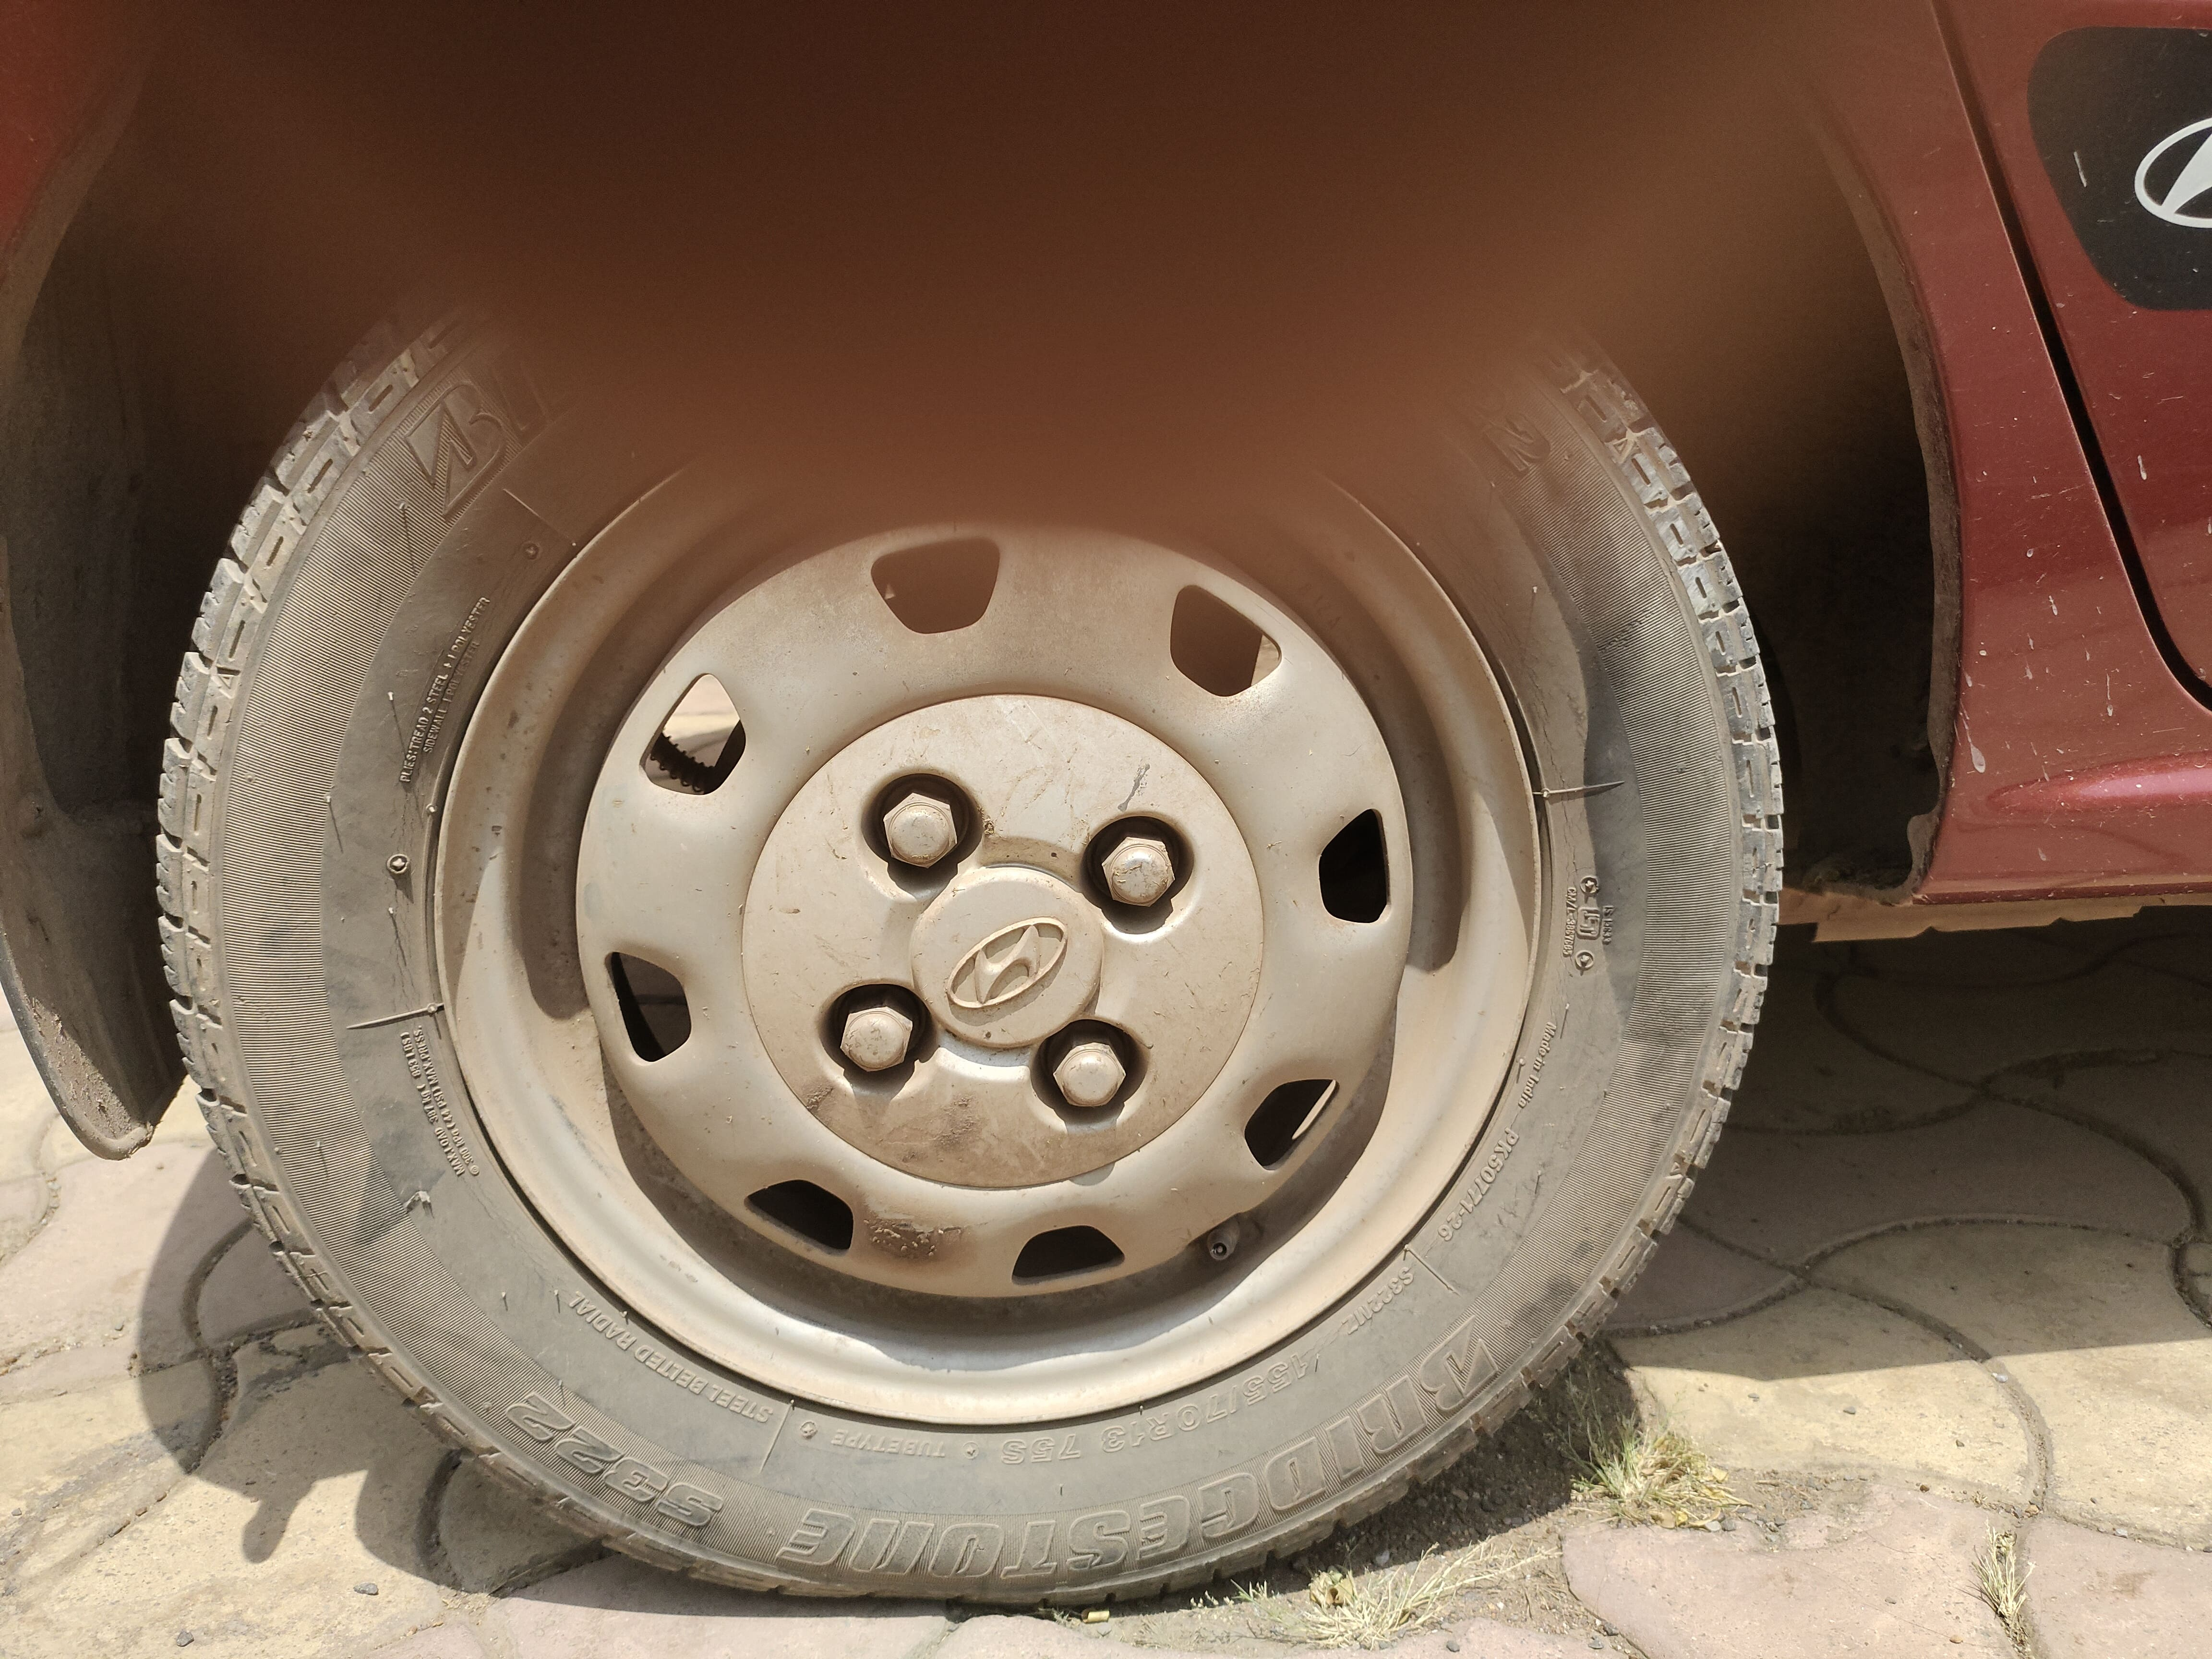l: (1068, 812, 1217, 936), (850, 772, 974, 903), (1014, 1007, 1144, 1129), (817, 981, 932, 1100)
